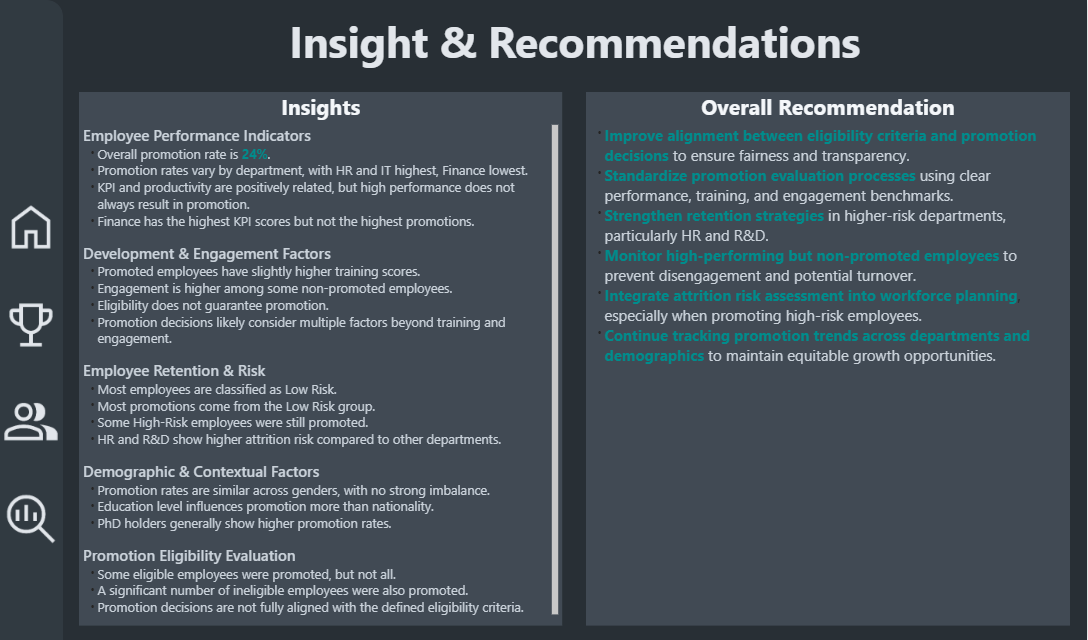

What the dashboard file says about the page in this screenshot:
{"tool":"powerbi","page":{"name":"Insight & Recommendation","canvas":[1360,800],"ordinal":3},"visuals":[{"type":"group","id":"g1","title":"Group 2","box":[0,0,80,800],"z":0},{"type":"shape","box":[0,0,80,800],"z":0,"group":"g1"},{"type":"shape","box":[99.7,0,1239.4,98.6],"z":1000},{"type":"textbox","title":"Insights","box":[99.7,114.8,604.1,666.7],"z":2000},{"type":"textbox","title":"Overall Recommendation","box":[733.9,114.8,605.2,666.7],"z":3000},{"type":"actionButton","box":[0,243.8,80,80],"z":4000,"group":"g1"},{"type":"actionButton","box":[0,486.2,80,80],"z":5000,"group":"g1"},{"type":"actionButton","box":[0,608.8,80,80],"z":6000,"group":"g1"},{"type":"actionButton","box":[0,366.2,80,80],"z":7000,"group":"g1"}]}

Visuals, with their boxes in screenshot pixels (x1, y1, x2, y2), scaled from the page's 1360x800 canvas onto the 1088x640 screenshot:
"Group 2" group: (0, 0, 64, 639)
shape: (0, 0, 64, 639)
shape: (80, 0, 1071, 79)
"Insights" textbox: (80, 92, 563, 625)
"Overall Recommendation" textbox: (587, 92, 1071, 625)
actionButton: (0, 195, 64, 259)
actionButton: (0, 389, 64, 453)
actionButton: (0, 487, 64, 551)
actionButton: (0, 293, 64, 357)
